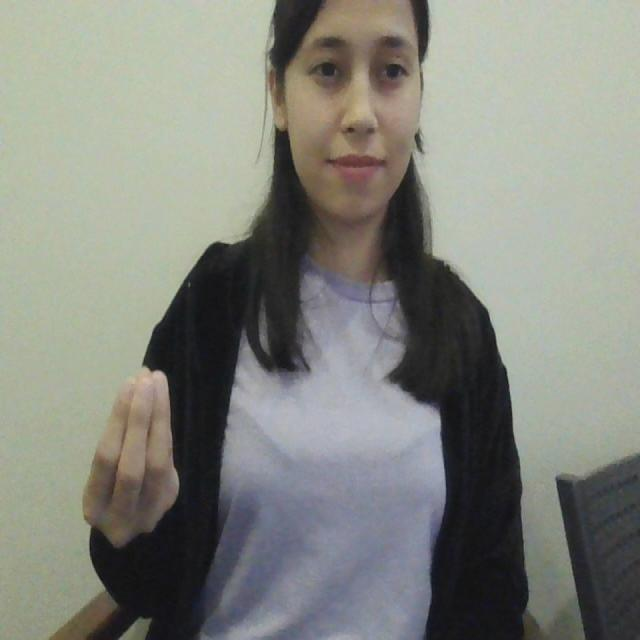iyi: (78, 363, 186, 552)
